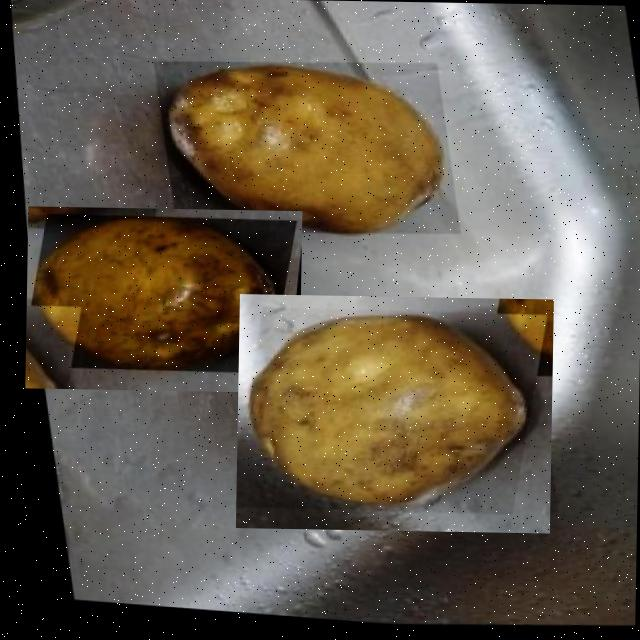Potato: (235, 294, 552, 533), (146, 47, 460, 256), (24, 205, 301, 392)
